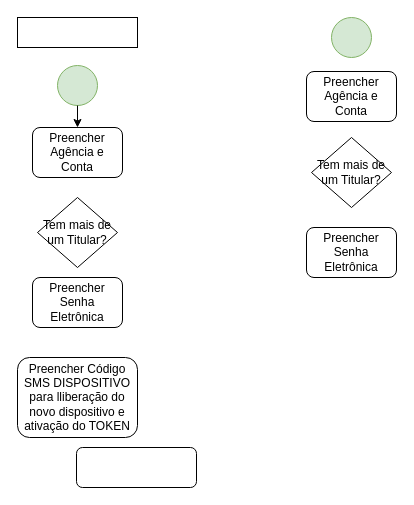
The diagram is 414 pixels wide and 505 high, and some of its shapes have lost their labels. The shapes that lost their labels are listed below. From the top down, each one's box as (x1, y1, x2, y2) in pixels, then its label:
(16, 16, 138, 48): Primeiro acesso + cadastro Token MBF
(76, 446, 196, 488): Opção Código SMS DISPOSITIVO
